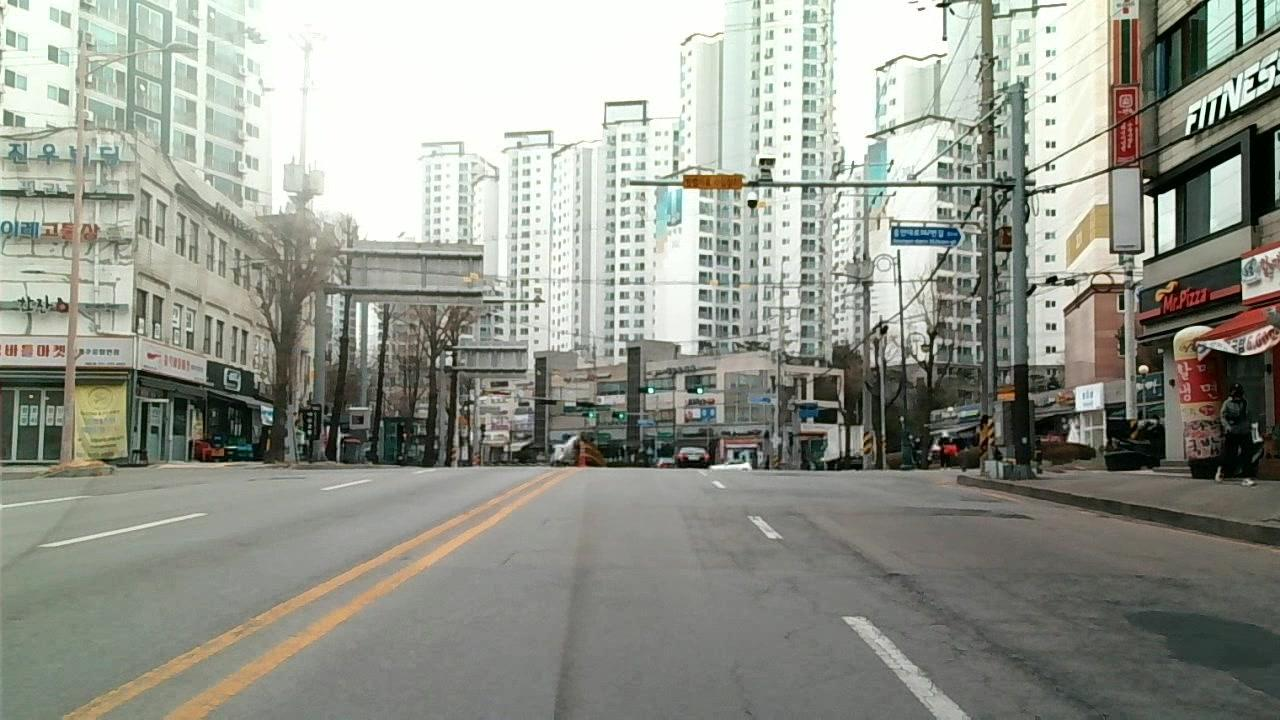banner: (877, 566, 1092, 706)
